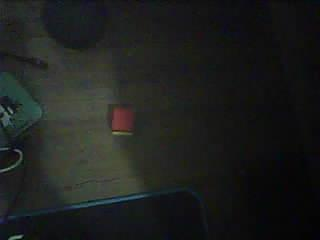lego: (111, 108, 134, 136)
